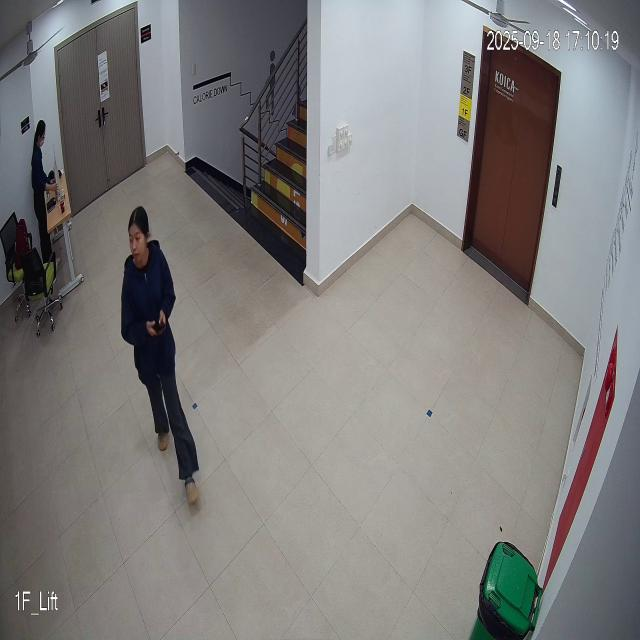face: (121, 203, 150, 268)
